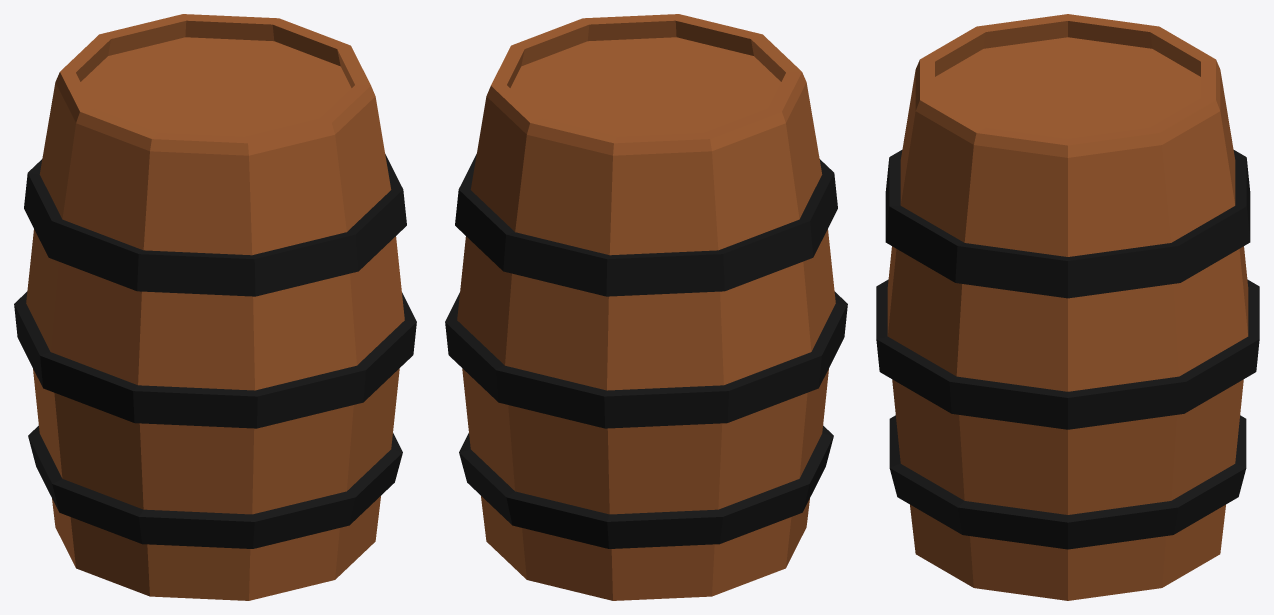
Rendered from Barel.fbx.
The picture shows the model from 3 angles, left to right: view 1: azimuth 30°, elevation 25°; view 2: azimuth 150°, elevation 25°; view 3: azimuth 270°, elevation 25°; orthographic projection.
Parts seen in each view (by area): view 1: Barel; view 2: Barel; view 3: Barel.
Part boxes in pixels (x1,y1,x2,y2): Barel: (14, 14, 416, 600); Barel: (445, 14, 847, 600); Barel: (876, 14, 1259, 600).
Bounding box in the file's own units: 0.5347 × 0.6638 × 0.5085.
